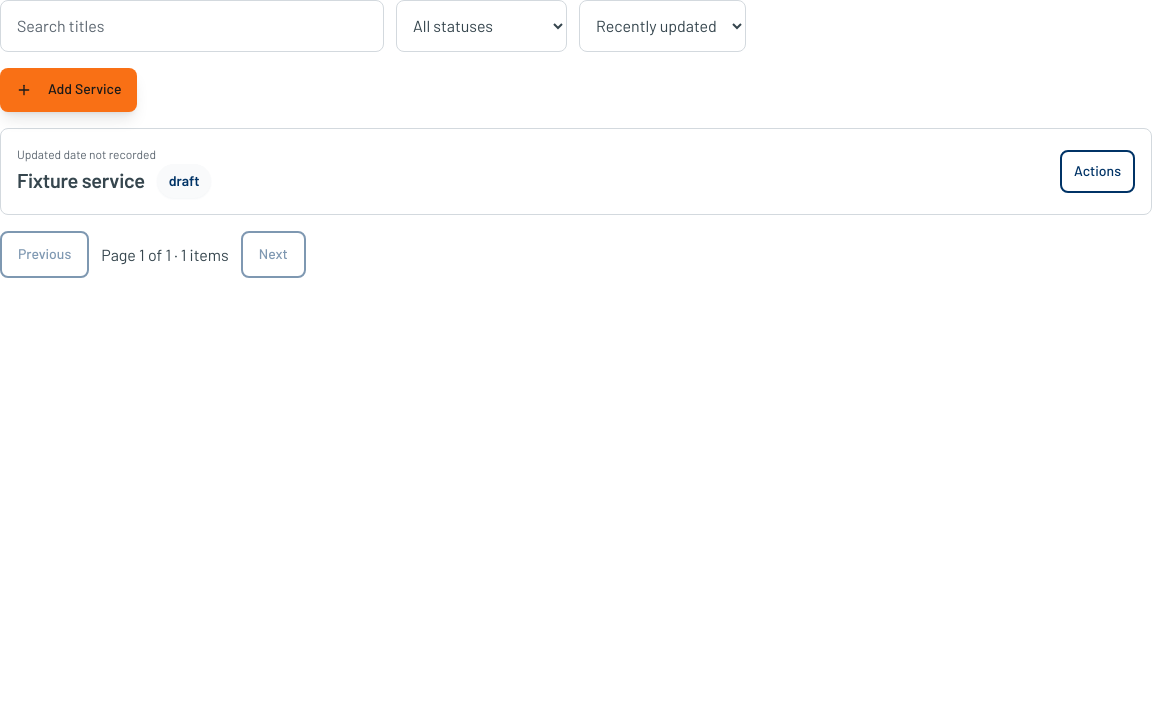
Test: admin delete confirmation › requires confirmation and supports cancellation for services
Later steps or results of the test are not shown.
Step 1. Press Enter in the button "Actions", box [1060,150,1135,193]
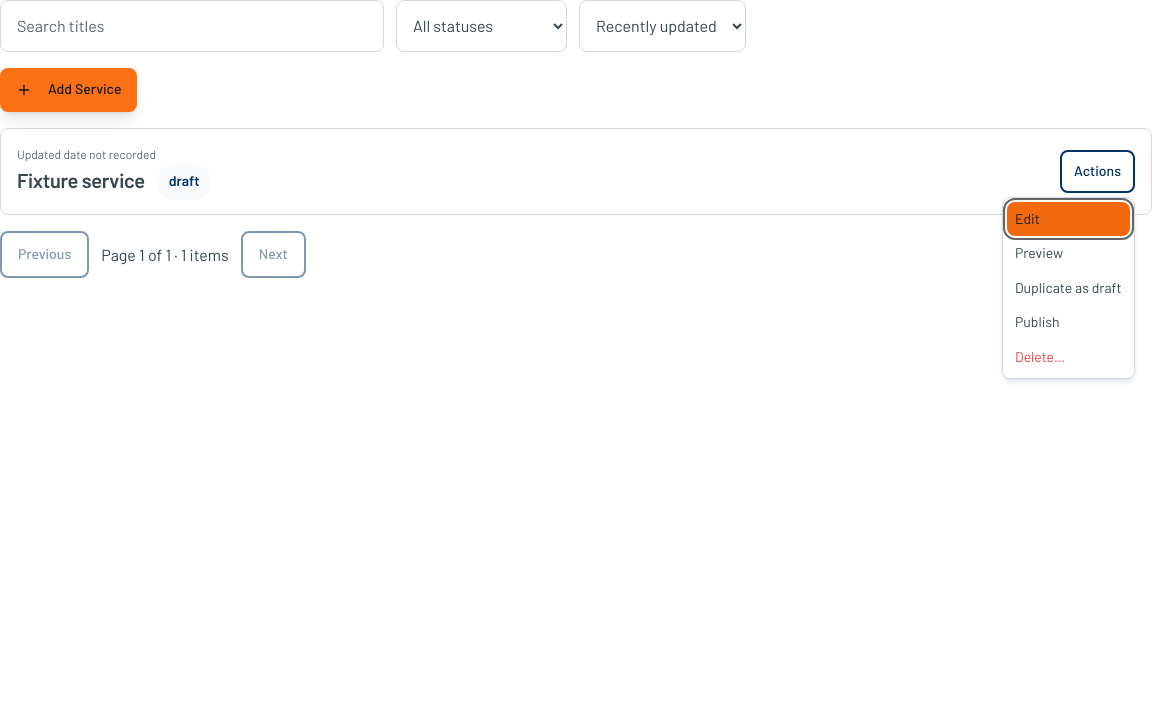
Step 2. Click the menu item "Delete…" → point(1040, 356), box [1015,348,1065,365]
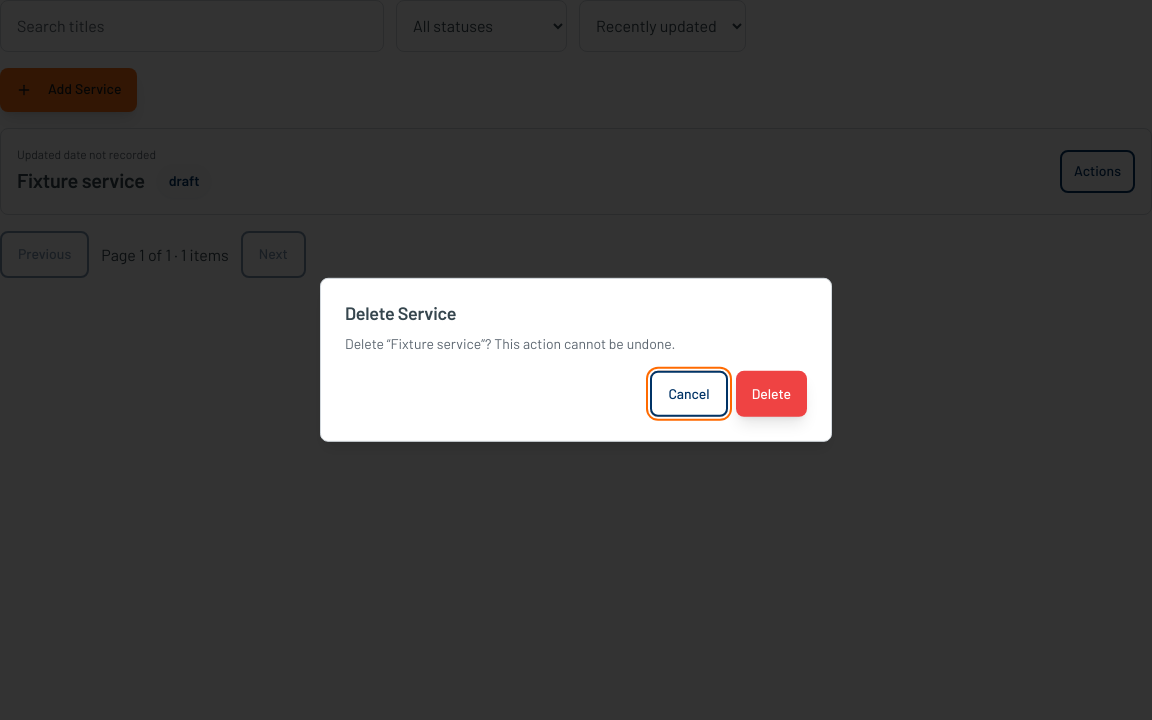
Expected: the dialog is shown, [320,278,832,442]
Step 3. Click the button "Cancel" → point(689, 394), box [650,371,728,417]
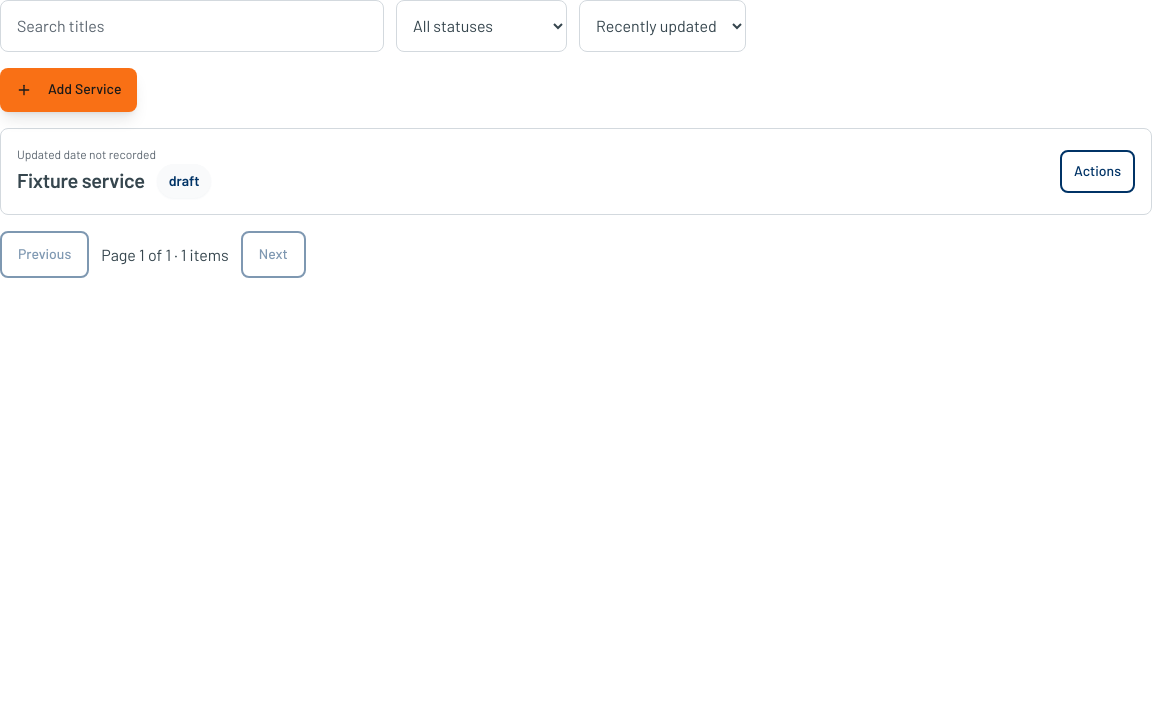
Expected: the dialog is gone
